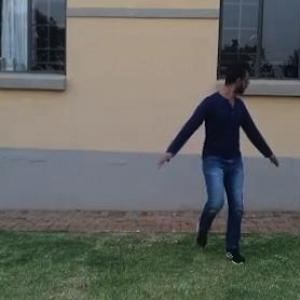land: (160, 46, 288, 269)
